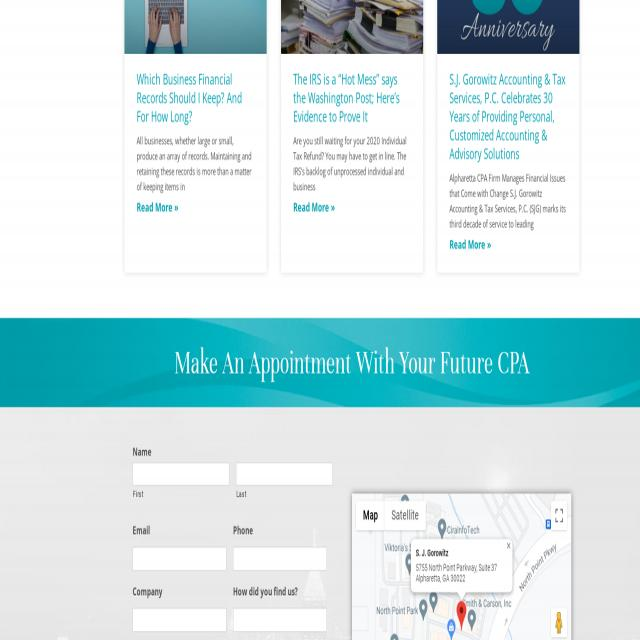button: (437, 0, 580, 275), (281, 0, 423, 275), (124, 0, 266, 272), (384, 501, 426, 531), (356, 501, 384, 531), (550, 499, 567, 532), (550, 609, 568, 638), (456, 604, 467, 628), (506, 541, 512, 551)
field: (133, 462, 229, 487), (236, 462, 332, 487), (132, 547, 226, 571), (233, 547, 327, 571), (132, 610, 226, 630), (233, 610, 327, 630)
